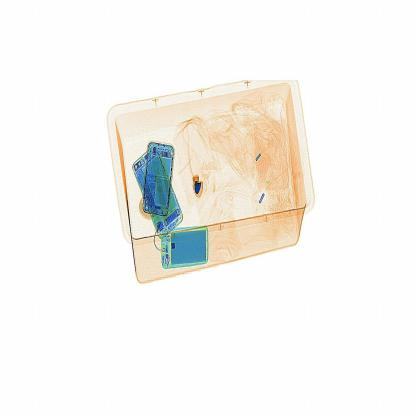wrench: (190, 165, 210, 204)
